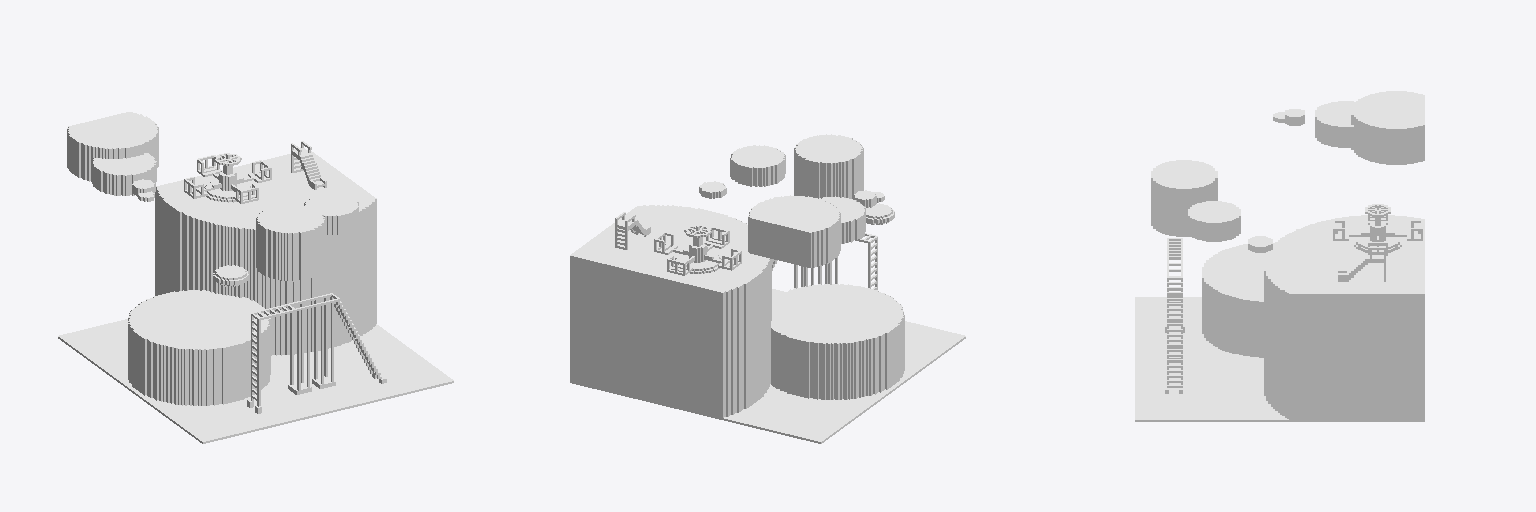
Rendered from lev1-3.obj.
3 renders of one model, left to right at view 1: azimuth 30°, elevation 25°; view 2: azimuth 150°, elevation 25°; view 3: azimuth 270°, elevation 25°, orthographic.
Parts seen in each view (by area): view 1: object 1; view 2: object 1; view 3: object 1.
Part boxes in pixels (bbox=[...]): object 1: bbox=[58, 112, 453, 443]; object 1: bbox=[570, 134, 965, 443]; object 1: bbox=[1135, 91, 1424, 421].
Size of the model in its own units: 12.6 by 10 by 12.6.